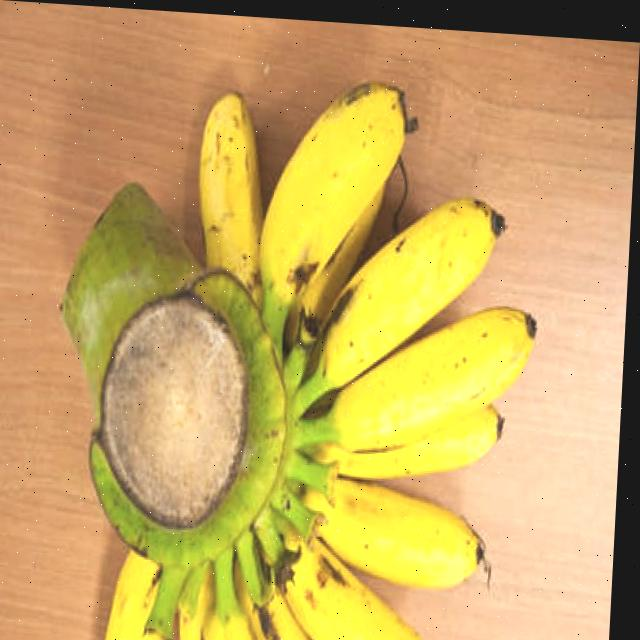banana: (35, 54, 555, 640)
